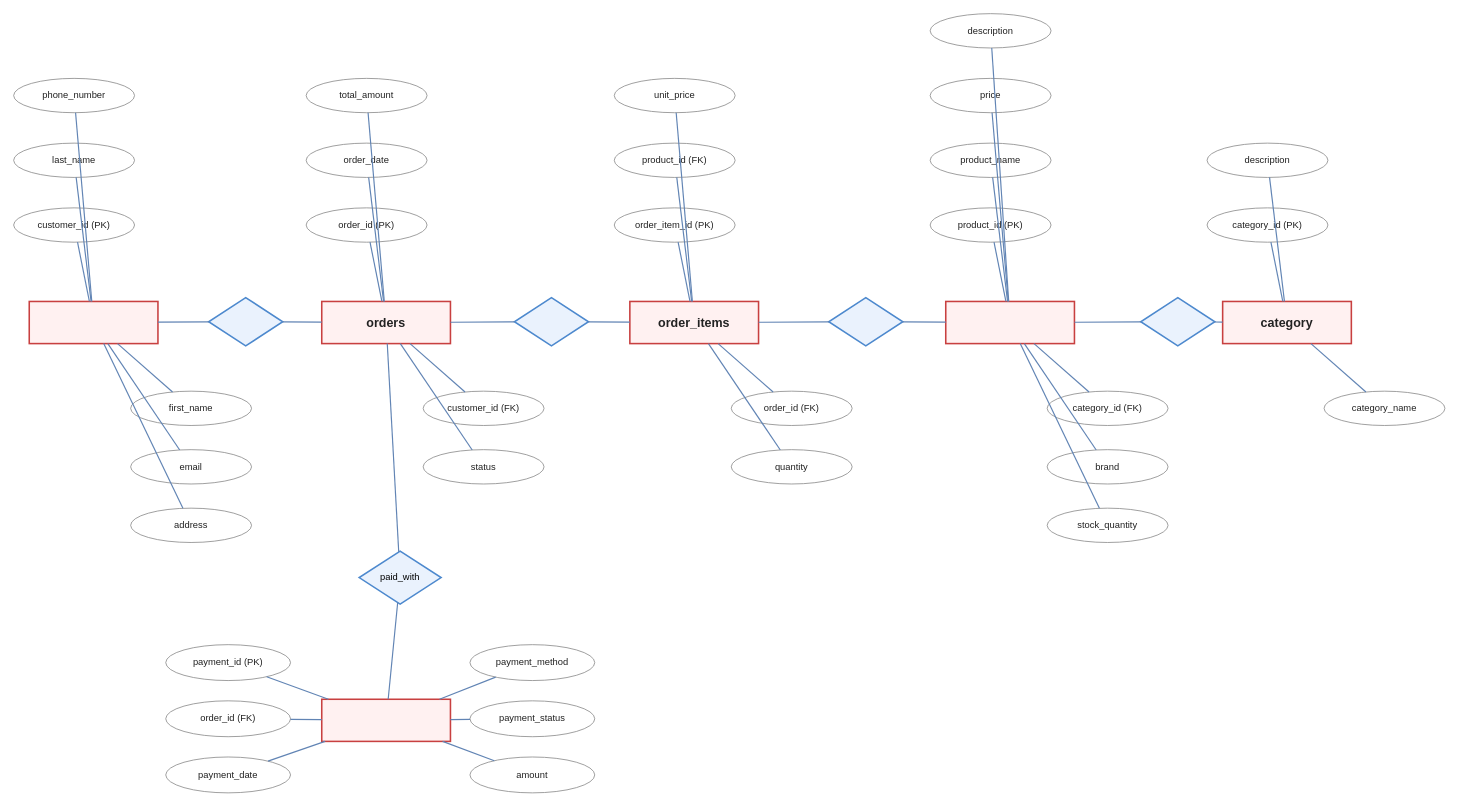
The diagram is 1459 pixels wide and 807 high, and some of its shapes have lost their labels. Here are the shapes that lost their labels. From the top down, the box of each, then its label:
(28, 300, 158, 344): customer
(207, 296, 283, 346): places
(513, 296, 589, 346): contains
(828, 296, 903, 346): refers_to
(945, 300, 1075, 344): product
(1140, 296, 1215, 346): belongs_to
(321, 698, 451, 742): payment
